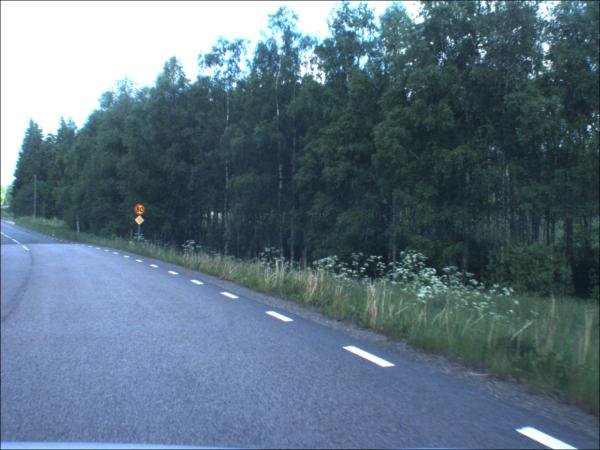80_SIGN: (136, 206, 147, 217)
PRIORITY_ROAD: (136, 217, 146, 227)
